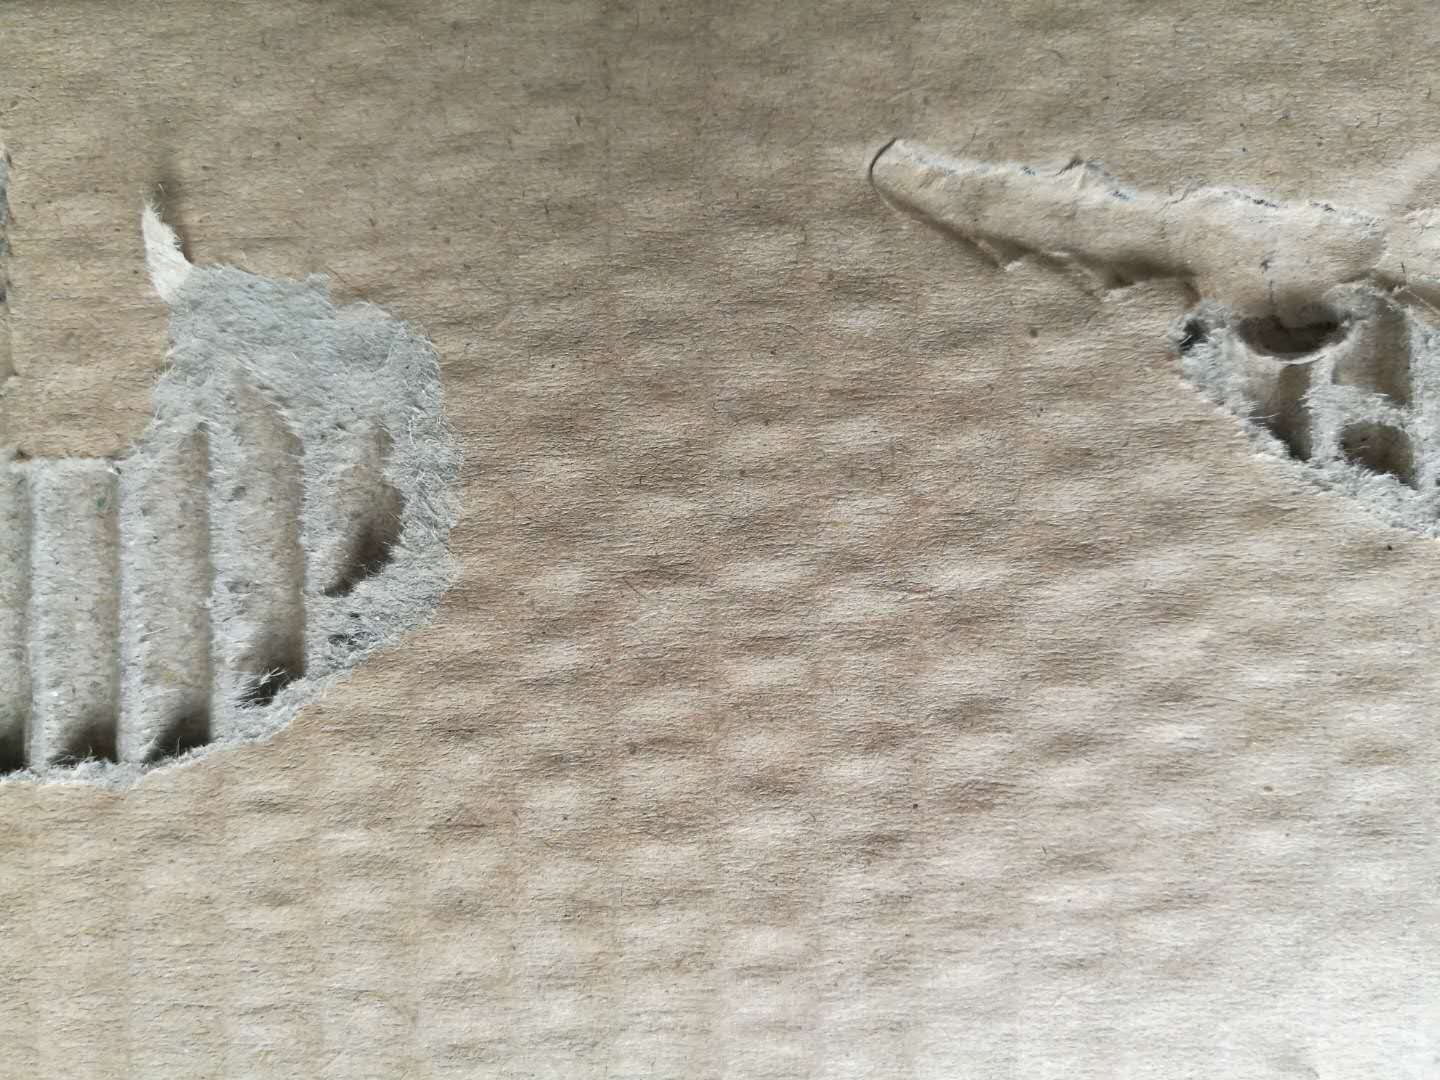defect: (1, 123, 514, 841), (839, 98, 1440, 585)
